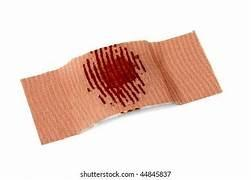Bandage: (21, 32, 220, 143)
